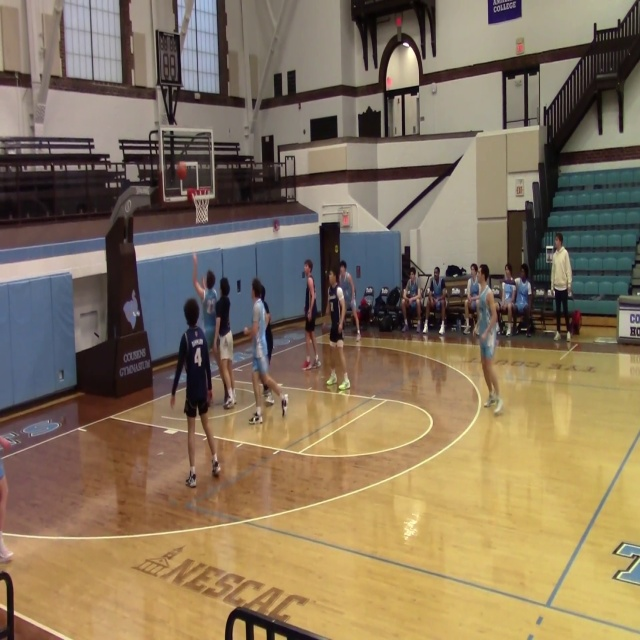Basketball: (175, 161, 187, 180), (468, 299, 477, 311), (321, 324, 329, 335), (243, 326, 251, 336)
